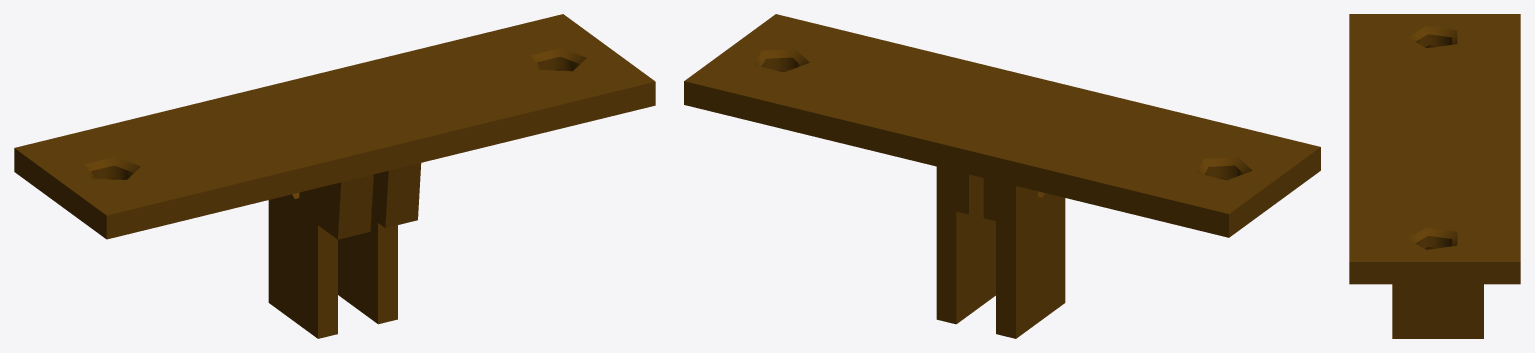
File: Pont Suspension.obj
The picture shows the model from 3 angles, left to right: view 1: azimuth 30°, elevation 25°; view 2: azimuth 150°, elevation 25°; view 3: azimuth 270°, elevation 25°; orthographic projection. The views are drawn at different scales.
Visible parts, largest first — view 1: Face_2, Face_6, Face_9, Face_16, Face_5, Face_24, Face_21, Face_23, Face_22, Face_18, Face_30, Face_28; view 2: Face_2, Face_4, Face_9, Face_16, Face_20, Face_14, Face_5, Face_28, Face_30, Face_18; view 3: Face_2, Face_19, Face_3, Face_28, Face_30, Face_7, Face_8.
Boxes of the visible parts, x1=… form: Face_2: x1=15, y1=14, x2=654, y2=215; Face_6: x1=106, y1=81, x2=655, y2=239; Face_9: x1=268, y1=182, x2=340, y2=338; Face_16: x1=338, y1=218, x2=377, y2=323; Face_5: x1=14, y1=148, x2=106, y2=238; Face_24: x1=318, y1=225, x2=337, y2=338; Face_21: x1=378, y1=223, x2=397, y2=324; Face_23: x1=338, y1=174, x2=373, y2=239; Face_22: x1=385, y1=163, x2=421, y2=227; Face_18: x1=371, y1=171, x2=388, y2=227; Face_30: x1=531, y1=48, x2=586, y2=69; Face_28: x1=85, y1=157, x2=140, y2=178; Face_2: x1=684, y1=14, x2=1320, y2=213; Face_4: x1=684, y1=81, x2=1228, y2=237; Face_9: x1=1016, y1=186, x2=1065, y2=338; Face_16: x1=956, y1=204, x2=995, y2=323; Face_20: x1=936, y1=166, x2=968, y2=324; Face_14: x1=983, y1=178, x2=1015, y2=338; Face_5: x1=1229, y1=147, x2=1320, y2=237; Face_28: x1=1197, y1=157, x2=1252, y2=174; Face_30: x1=754, y1=49, x2=809, y2=66; Face_18: x1=969, y1=174, x2=983, y2=214; Face_2: x1=1349, y1=14, x2=1520, y2=261; Face_19: x1=1392, y1=284, x2=1483, y2=338; Face_3: x1=1349, y1=262, x2=1520, y2=284; Face_28: x1=1408, y1=26, x2=1457, y2=44; Face_30: x1=1408, y1=227, x2=1457, y2=246; Face_7: x1=1415, y1=34, x2=1452, y2=46; Face_8: x1=1415, y1=235, x2=1452, y2=248.
Bounding box in the file's own units: 0.048 × 0.0165 × 0.014.
